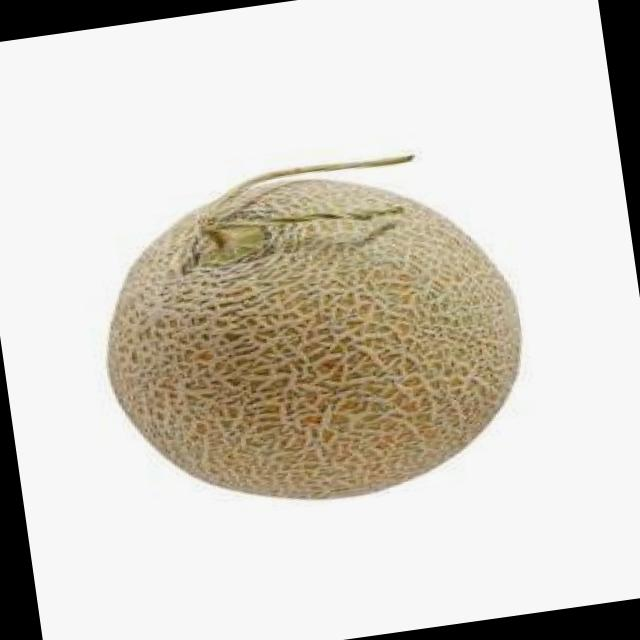cantaloupe: (85, 138, 542, 528)
